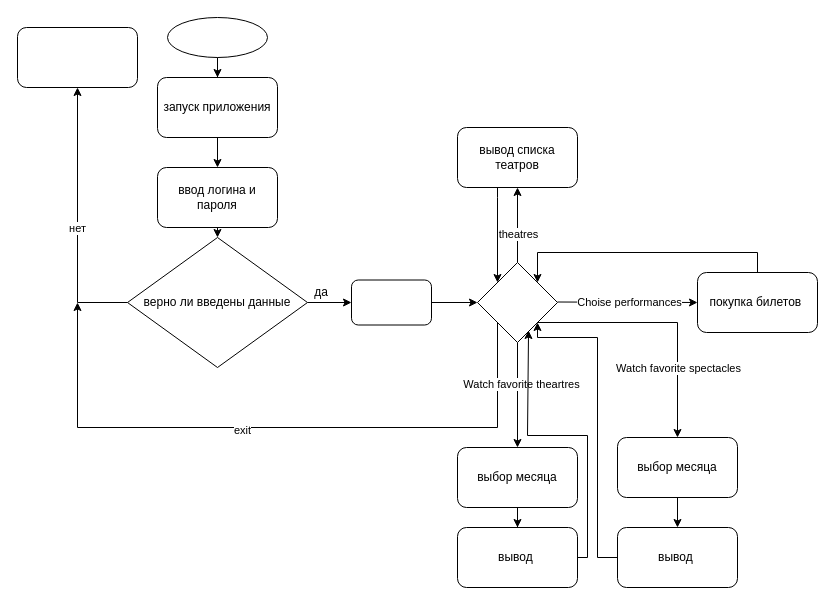
Some shapes in this 835 by 605 pixel diagram are drawn without their labels. Here are the shapes that lost their labels. From the top down, the centre of each, then its label:
At [77,57]: "завершение программы".
At [217,37]: "пользователь".
At [391,302]: "запуск меню".
At [517,302]: "выбор варианта".
